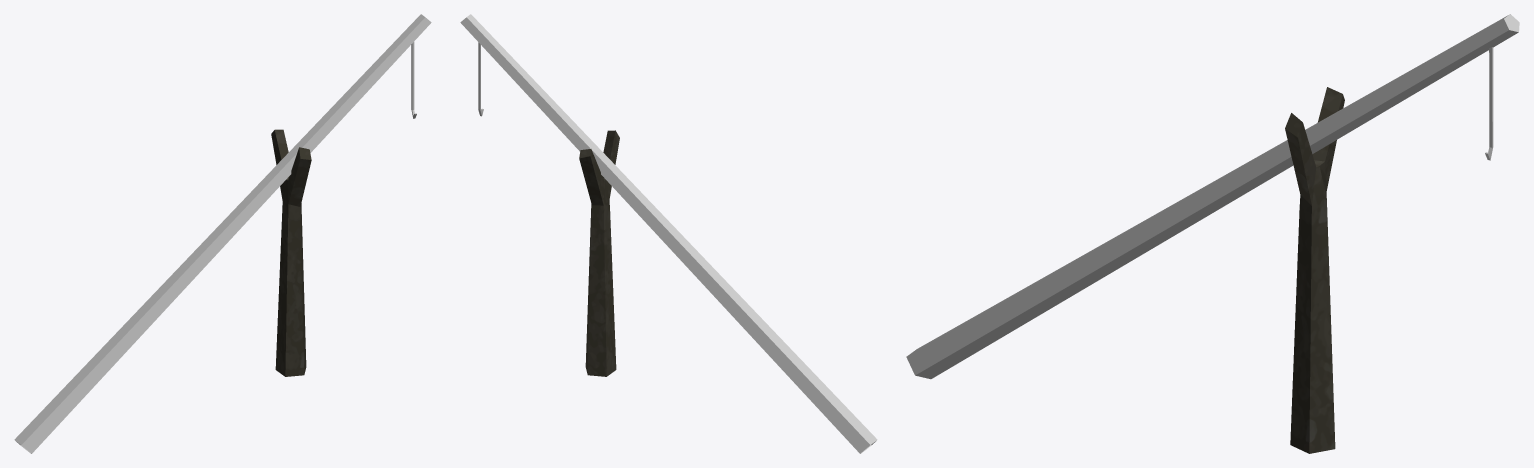
File: Pot_Support_Colider.fbx
The picture shows the model from 3 angles, left to right: view 1: azimuth 30°, elevation 25°; view 2: azimuth 150°, elevation 25°; view 3: azimuth 330°, elevation 25°; orthographic projection. The views are drawn at different scales.
Visible parts, largest first — view 1: _Suppor_Pot_Colider; view 2: _Suppor_Pot_Colider; view 3: _Suppor_Pot_Colider.
Part boxes in pixels (x1,y1,x2,y2): _Suppor_Pot_Colider: [14, 14, 431, 453]; _Suppor_Pot_Colider: [460, 14, 877, 453]; _Suppor_Pot_Colider: [906, 14, 1519, 453].
Bounding box in the file's own units: 249 × 198 × 33.26.
